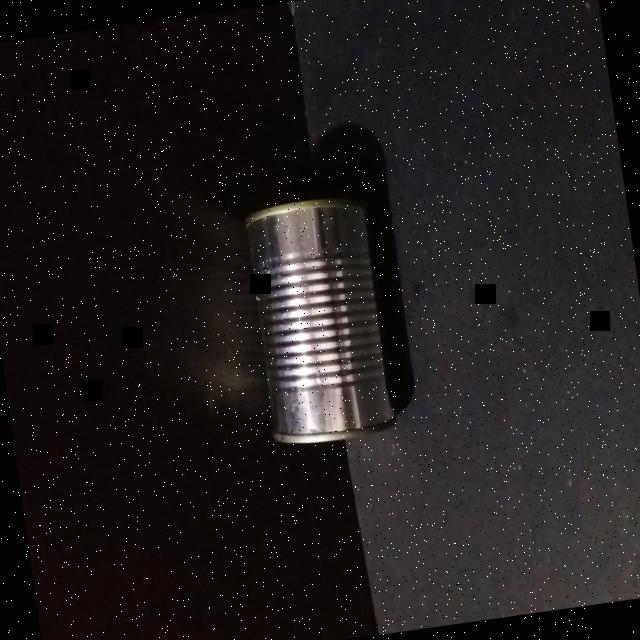can: (237, 185, 408, 452)
